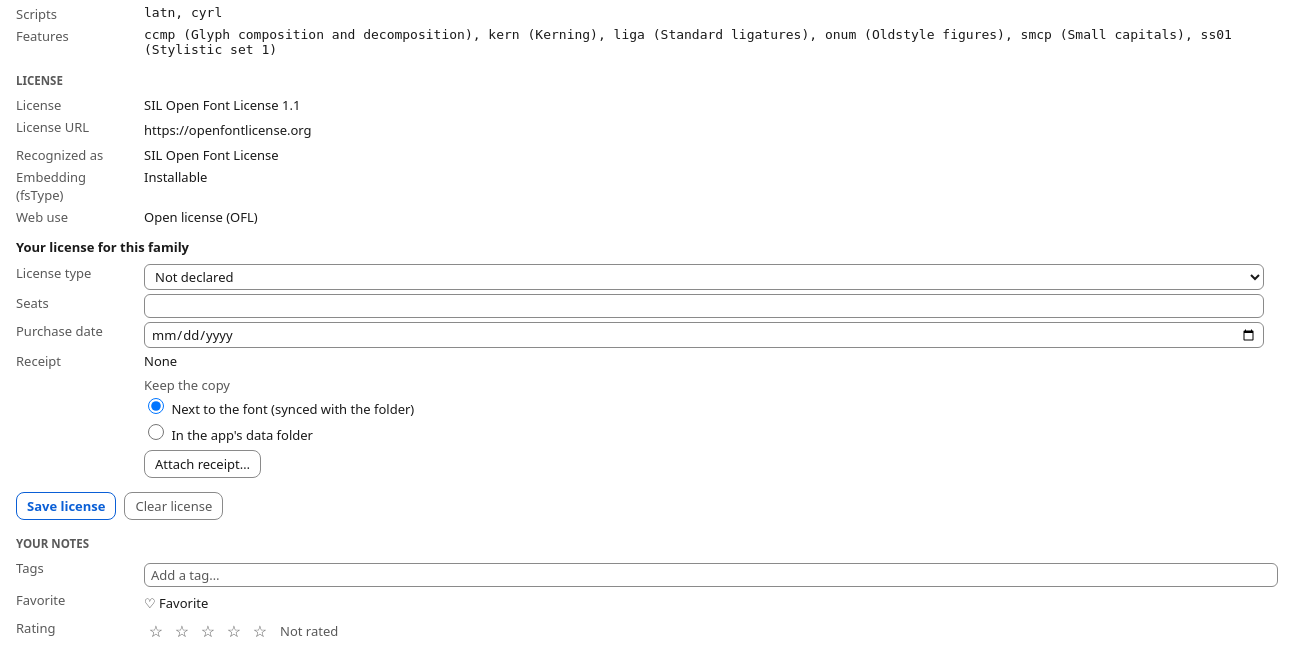
Scenario: inspector info tab › edits tags with completion, the favorite toggle and the stars
(page scrolled)
In the field named "Add a tag": x=711, y=575 [144,563,1278,587], type "Display"
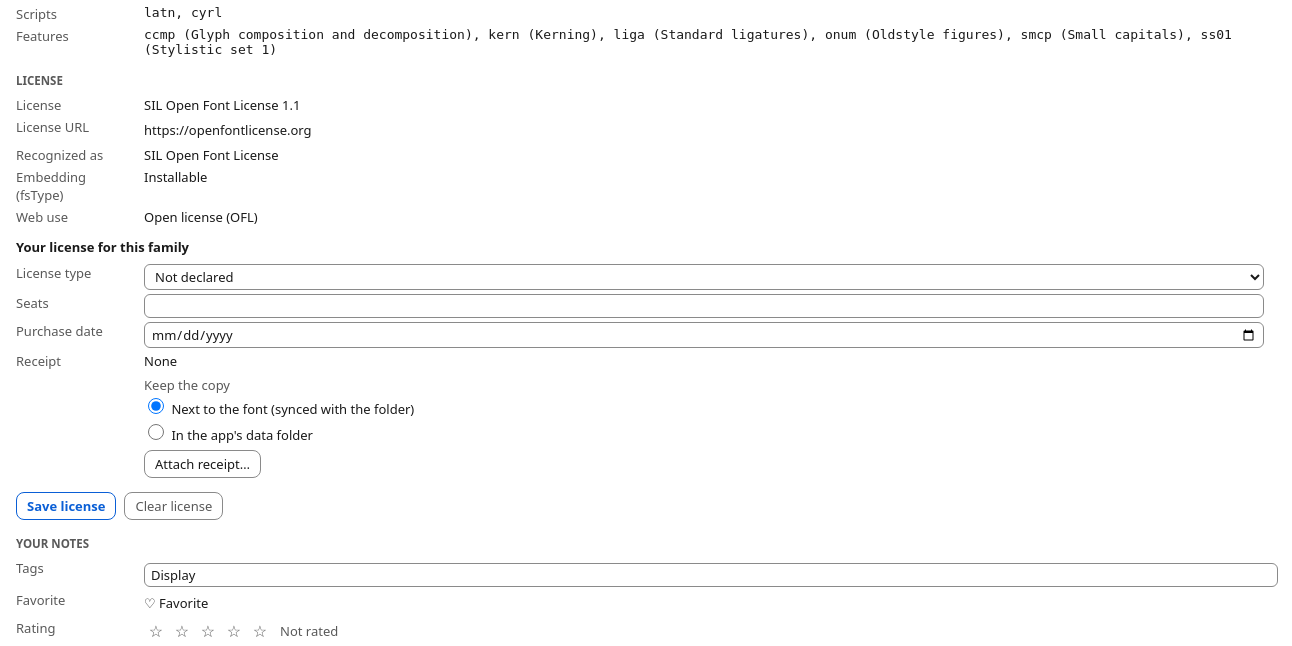
Submit the form with class "add-tag", box [144,563,1264,587]
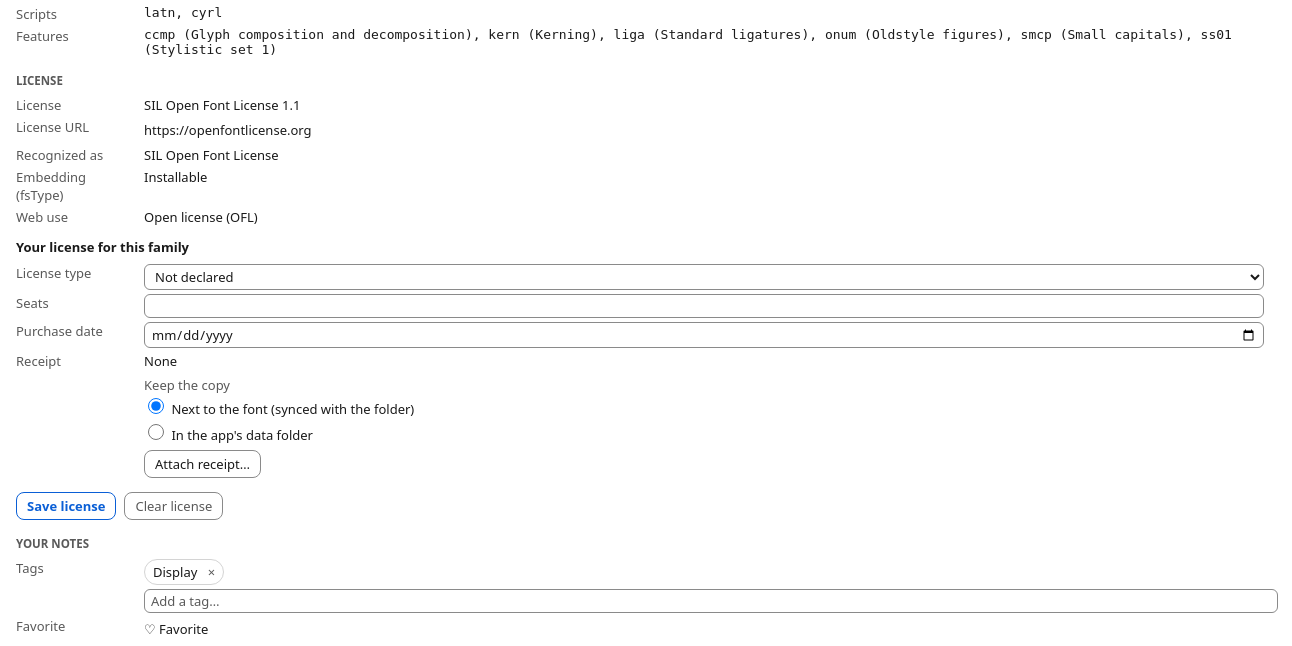
Expected: the field named "Add a tag" is empty, [144,589,1278,613]
Click the button named "Remove tag Display": x=211, y=572 [199,560,223,584]
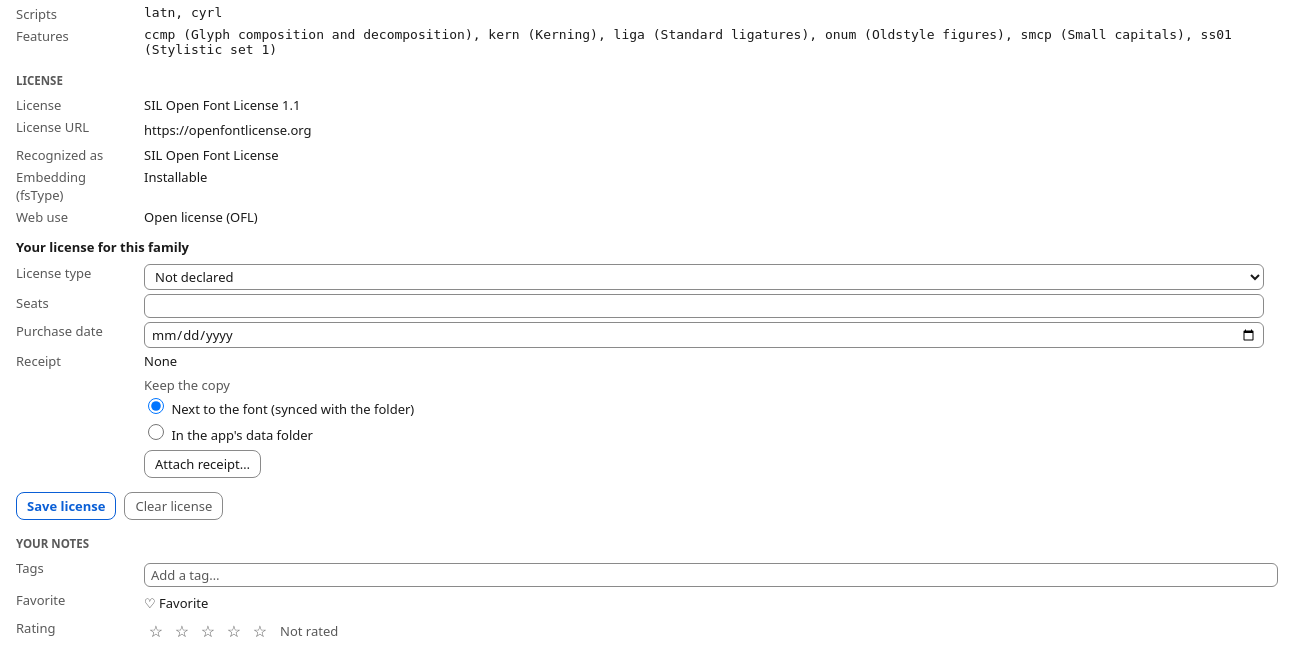
Expected: no buttons with class "tag" are shown
Click the button with class "favorite": x=176, y=603 [144,591,208,615]
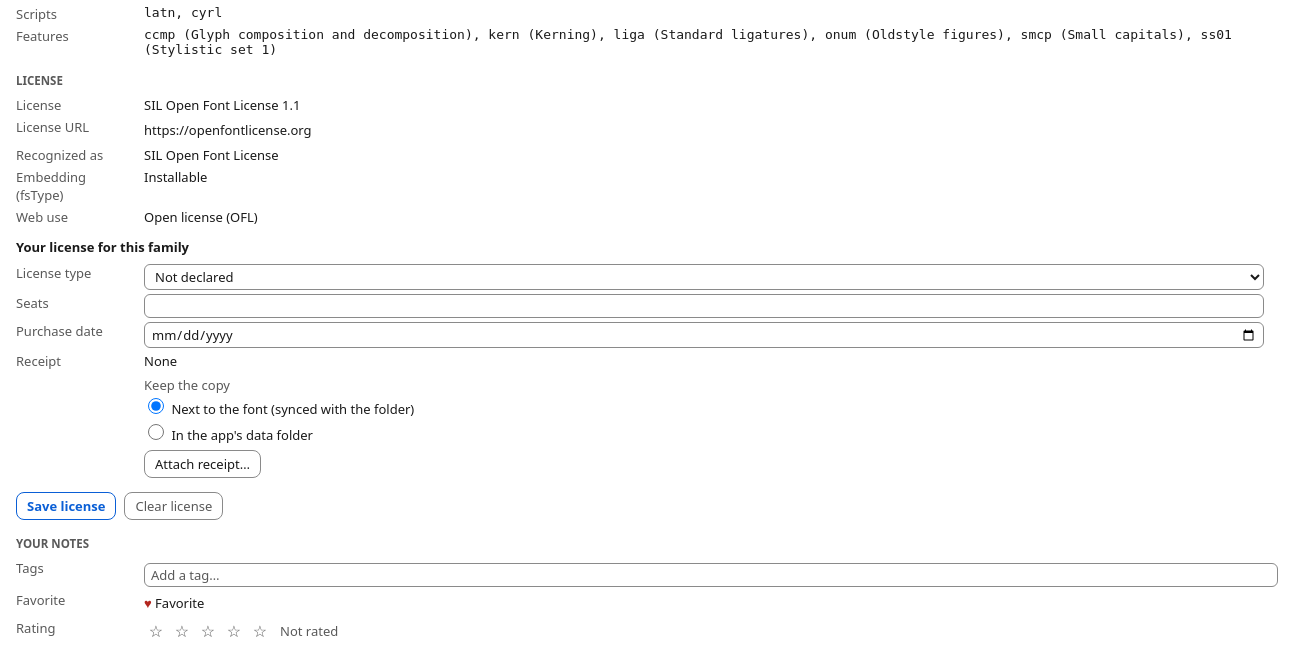
Expected: the button with class "favorite" is pressed, [144,591,204,615]
Click the button named "4 stars": x=234, y=631 [222,619,246,643]
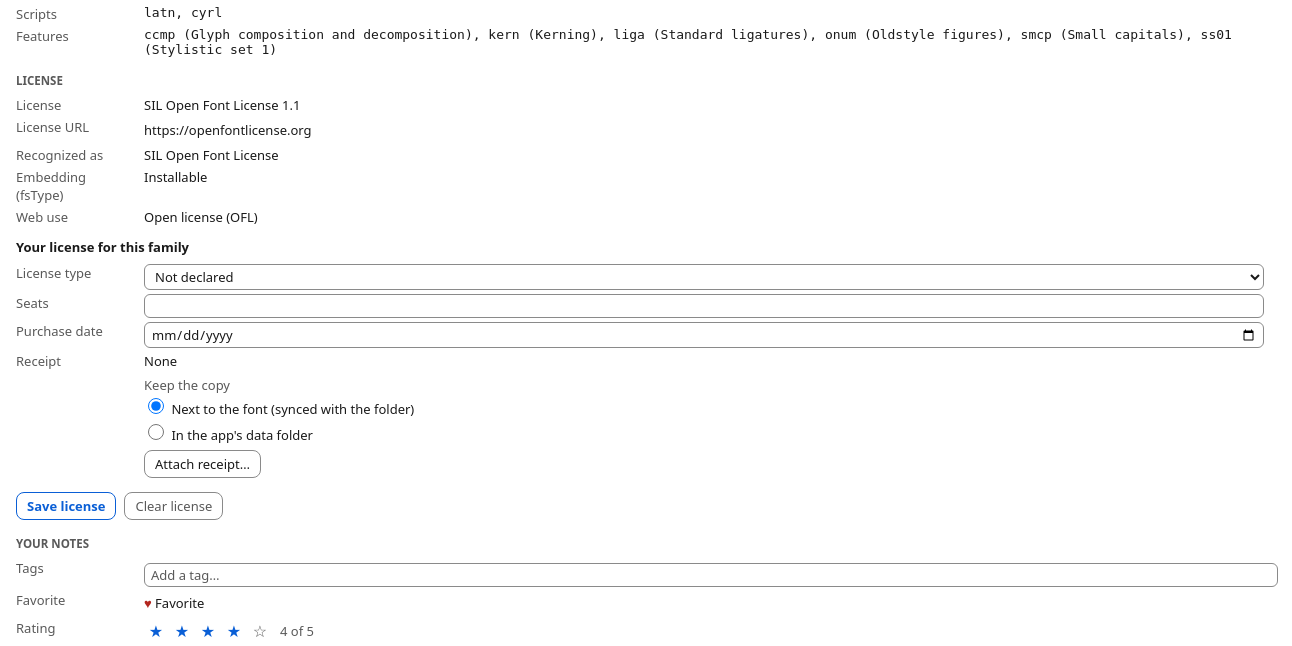
Expected: the text with test id "rating" reads "4 of 5", [280,622,314,640]
Note: Choosing the same rating clears it.
Click the button named "4 stars": x=234, y=631 [222,619,246,643]
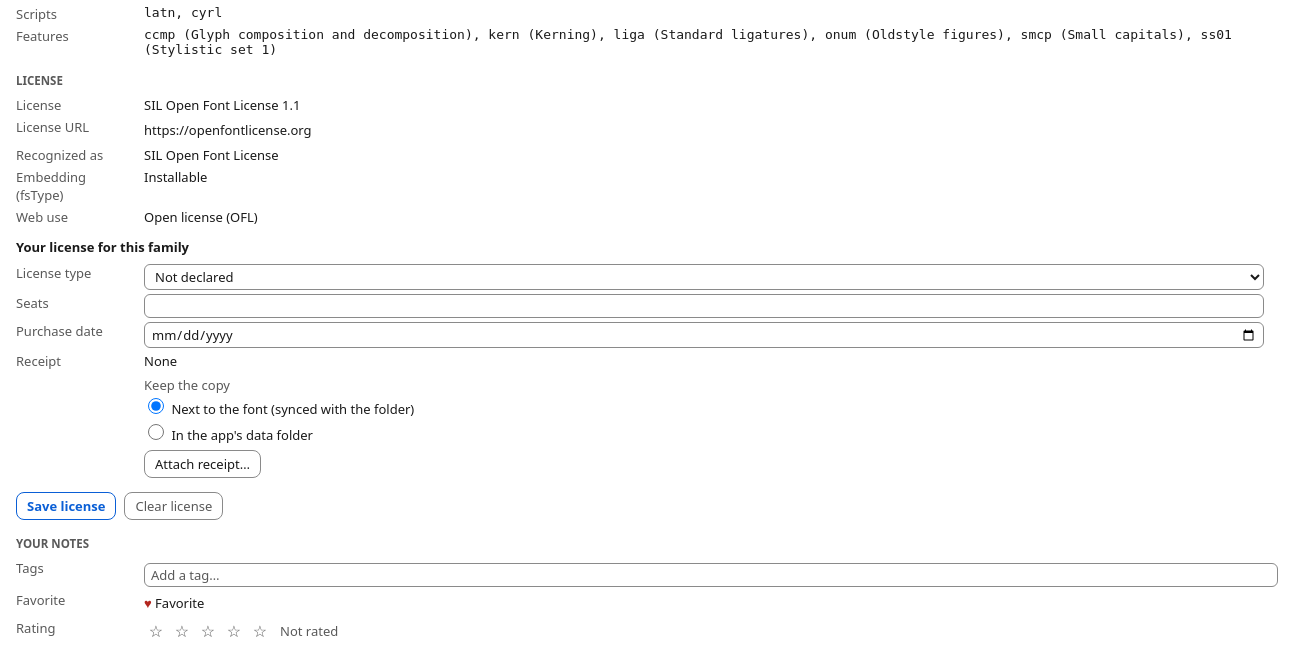
Expected: the text with test id "rating" reads "Not rated", [280,622,338,640]
